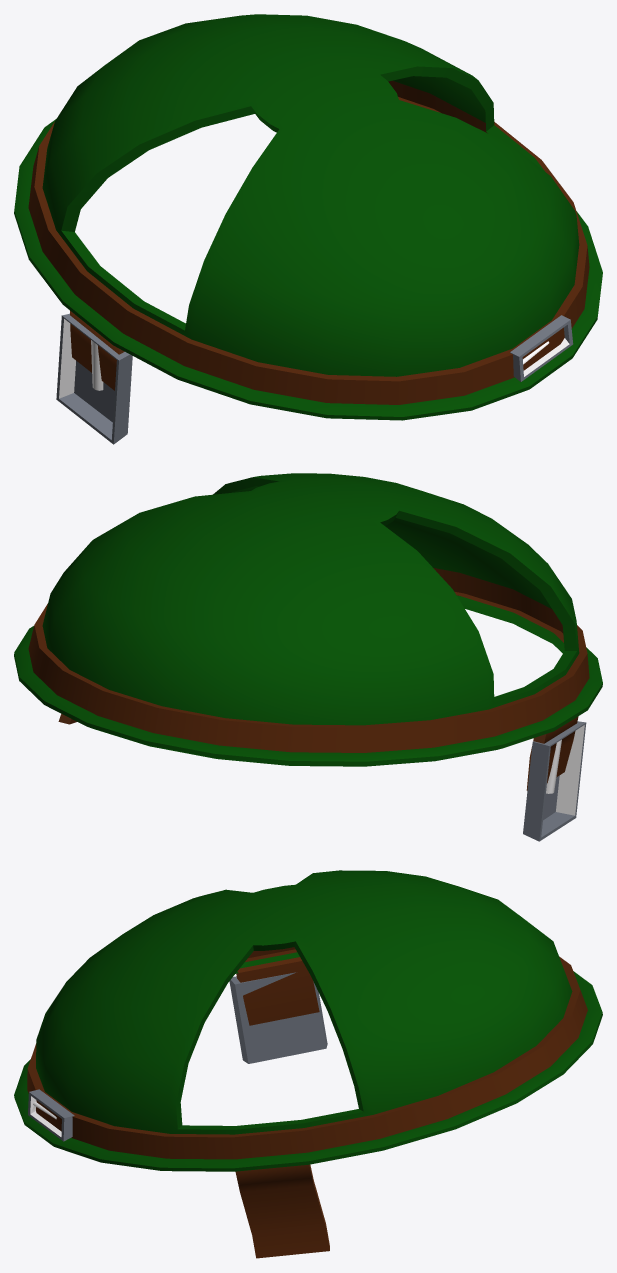
The model's file is Helmet.fbx.
3 renders of one model, top to bottom at view 1: azimuth 30°, elevation 25°; view 2: azimuth 150°, elevation 25°; view 3: azimuth 270°, elevation 25°, orthographic. The views are drawn at different scales.
Parts seen in each view (by area): view 1: Head1; view 2: Head1; view 3: Head1.
Part boxes in pixels (left/top/right/bottom): Head1: left=14, top=14, right=602, bottom=444; Head1: left=14, top=473, right=602, bottom=841; Head1: left=14, top=870, right=602, bottom=1258.
Bounding box in the file's own units: 32.63 × 18.25 × 37.64.
